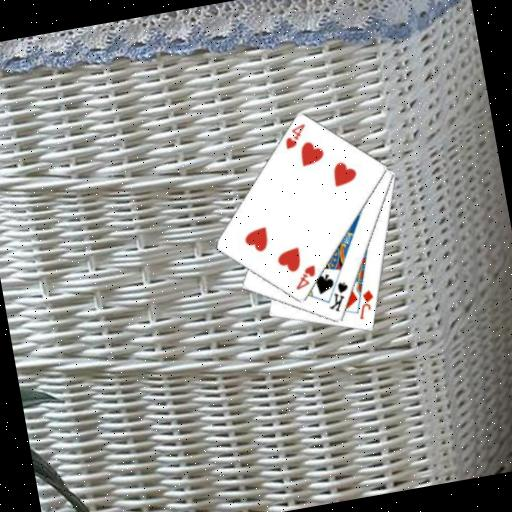4H: (279, 120, 310, 152), (289, 261, 320, 292)
JD: (351, 287, 378, 322)
KS: (321, 277, 353, 315)
